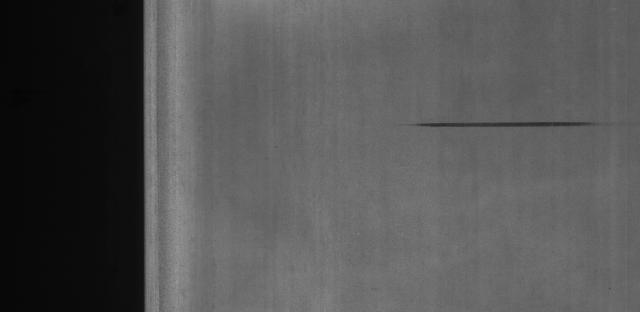crease: (407, 105, 619, 145)
